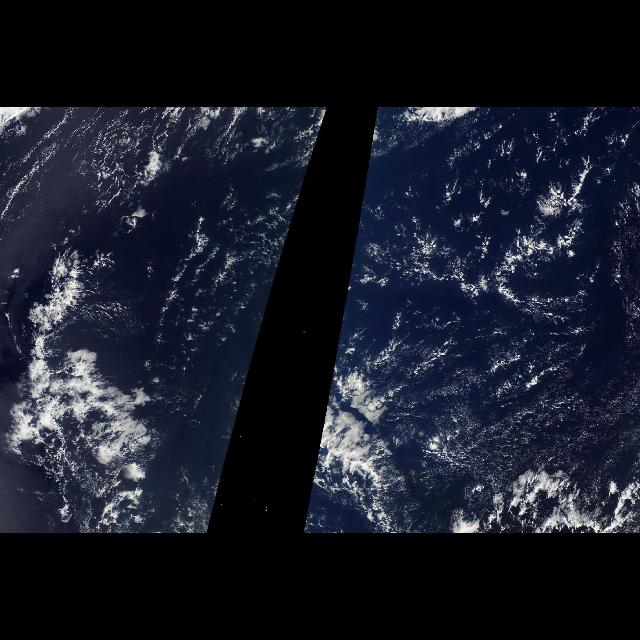Fish: (314, 402, 428, 528)
Gravel: (29, 107, 244, 365)
Sugar: (426, 371, 640, 501)
